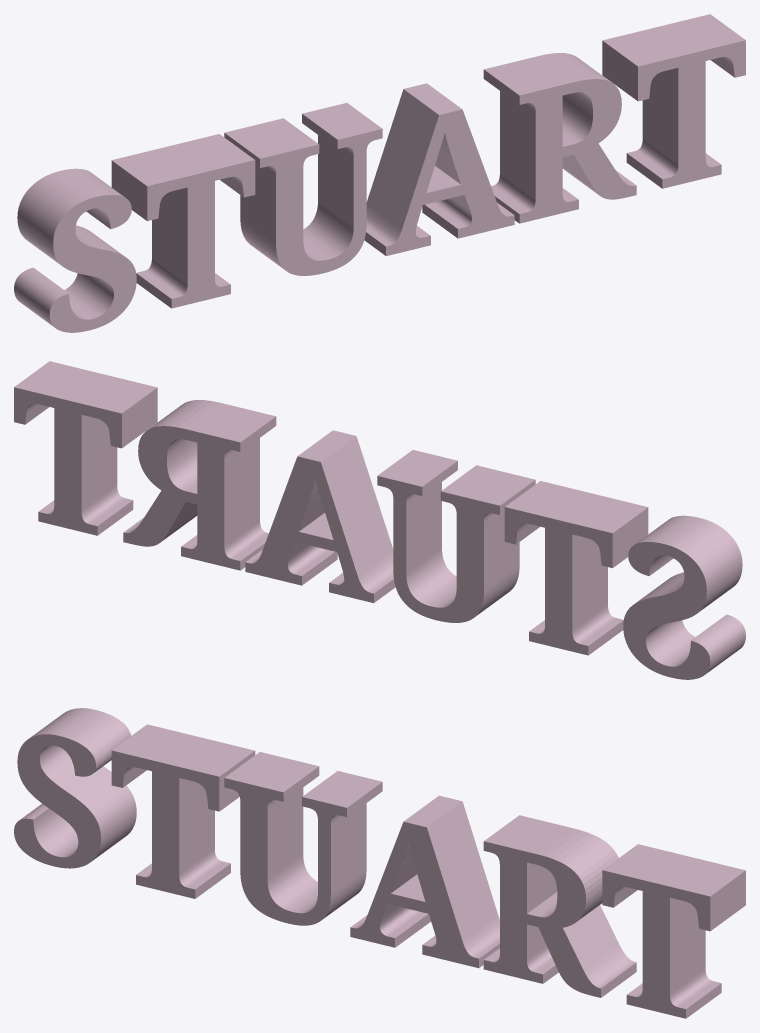
File: minion3.glb
3 views of the same model, one above another, from view 1: azimuth 30°, elevation 25°; view 2: azimuth 150°, elevation 25°; view 3: azimuth 330°, elevation 25° (orthographic).
Visible parts, largest first — view 1: Mesh_Mesh_head_geo.001_lambert2SG.001; view 2: Mesh_Mesh_head_geo.001_lambert2SG.001; view 3: Mesh_Mesh_head_geo.001_lambert2SG.001.
Part boxes in pixels (x1,y1,x2,y2): Mesh_Mesh_head_geo.001_lambert2SG.001: (14,14,745,332); Mesh_Mesh_head_geo.001_lambert2SG.001: (14,361,745,679); Mesh_Mesh_head_geo.001_lambert2SG.001: (14,708,745,1018).
Size of the model in its own units: 113 by 20.38 by 10.
